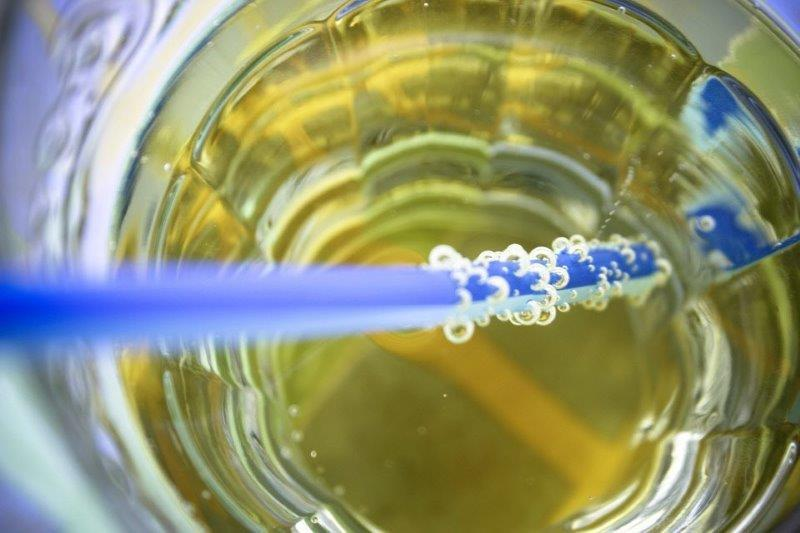plastic: (0, 233, 665, 384)
